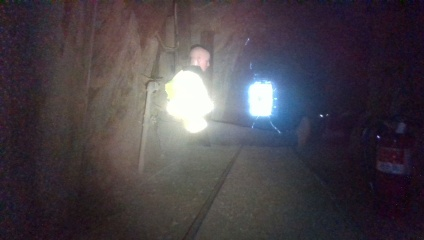fire_extinguisher: (360, 106, 420, 230)
manikin: (162, 47, 246, 153)
